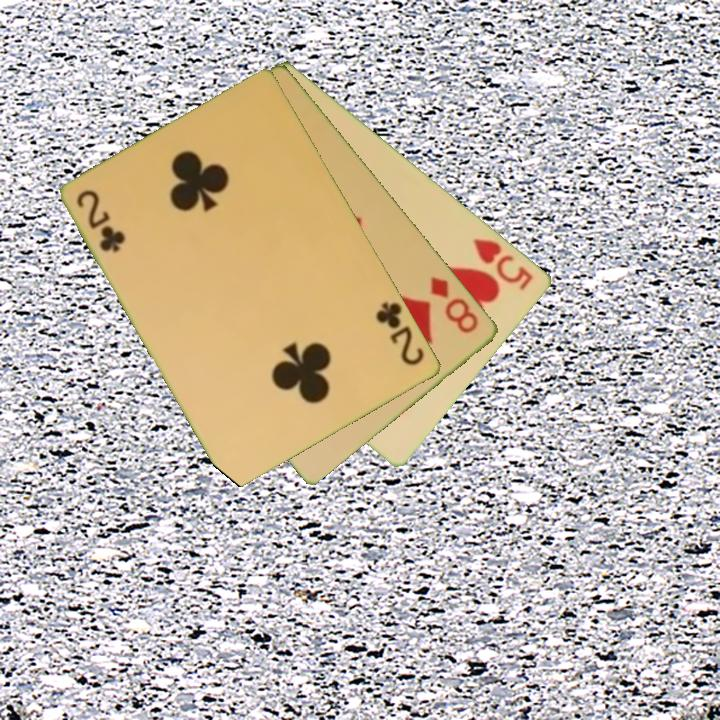2c: (372, 298, 428, 369), (73, 186, 129, 256)
5h: (469, 234, 537, 294)
8d: (427, 273, 482, 337)
